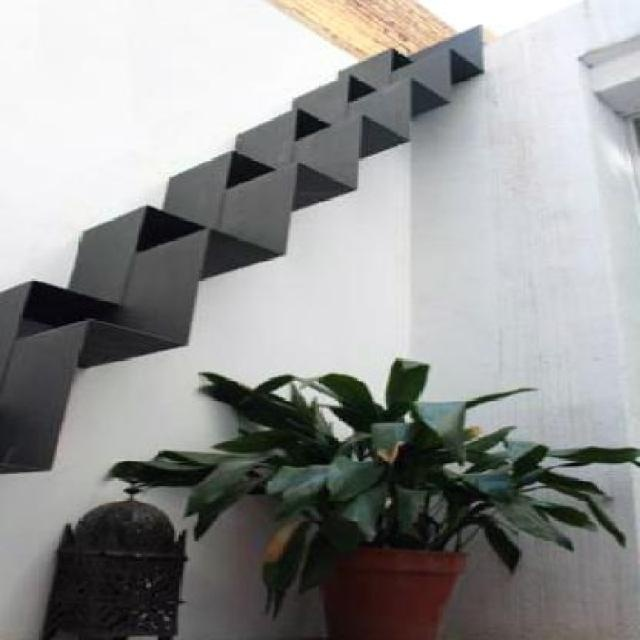stair: (2, 22, 512, 462)
